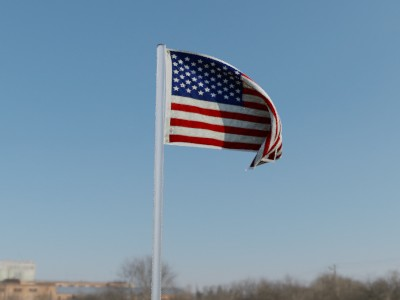America flag: (166, 49, 285, 170)
